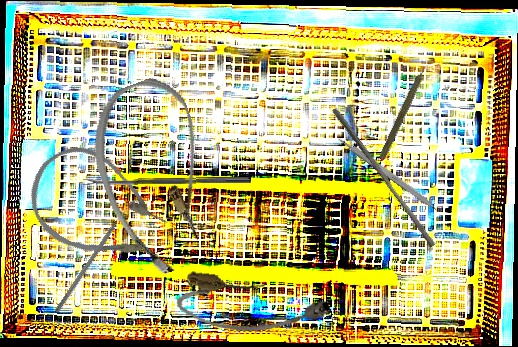Cannula: (74, 69, 239, 284), (12, 130, 182, 285), (173, 269, 335, 346)
Handpiece: (376, 56, 436, 163)
Hook Surgical: (54, 208, 129, 314)
Pusher: (326, 106, 441, 249)
Scalpel Handle: (336, 133, 440, 213)
Surgical Spoon: (82, 175, 252, 186)
